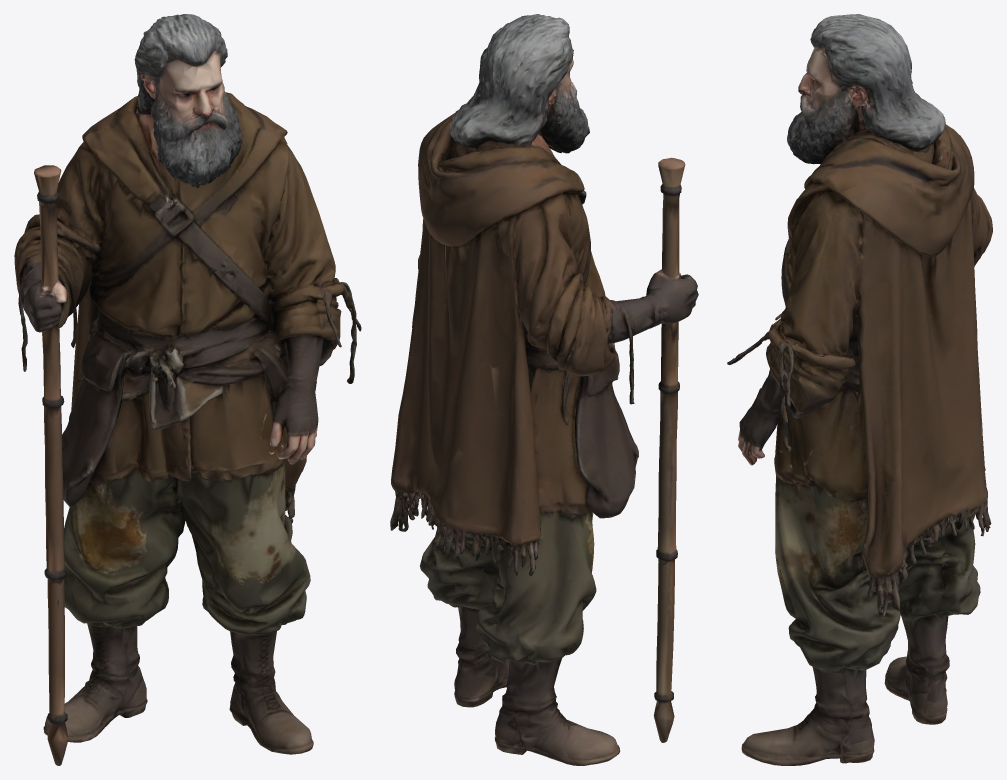
File: magus.glb
3 views of the same model, side by side, from view 1: azimuth 30°, elevation 25°; view 2: azimuth 150°, elevation 25°; view 3: azimuth 270°, elevation 25° (orthographic). The views are drawn at different scales.
Visible parts, largest first — view 1: Object_4; view 2: Object_4; view 3: Object_4.
Boxes of the visible parts, x1,y1,x2,y2 form: Object_4: [14, 14, 361, 765]; Object_4: [390, 14, 698, 765]; Object_4: [727, 14, 992, 765].
Bounding box in the file's own units: 0.8018 × 1.8 × 0.6133.
Materials: 1 (1 with a texture image).
